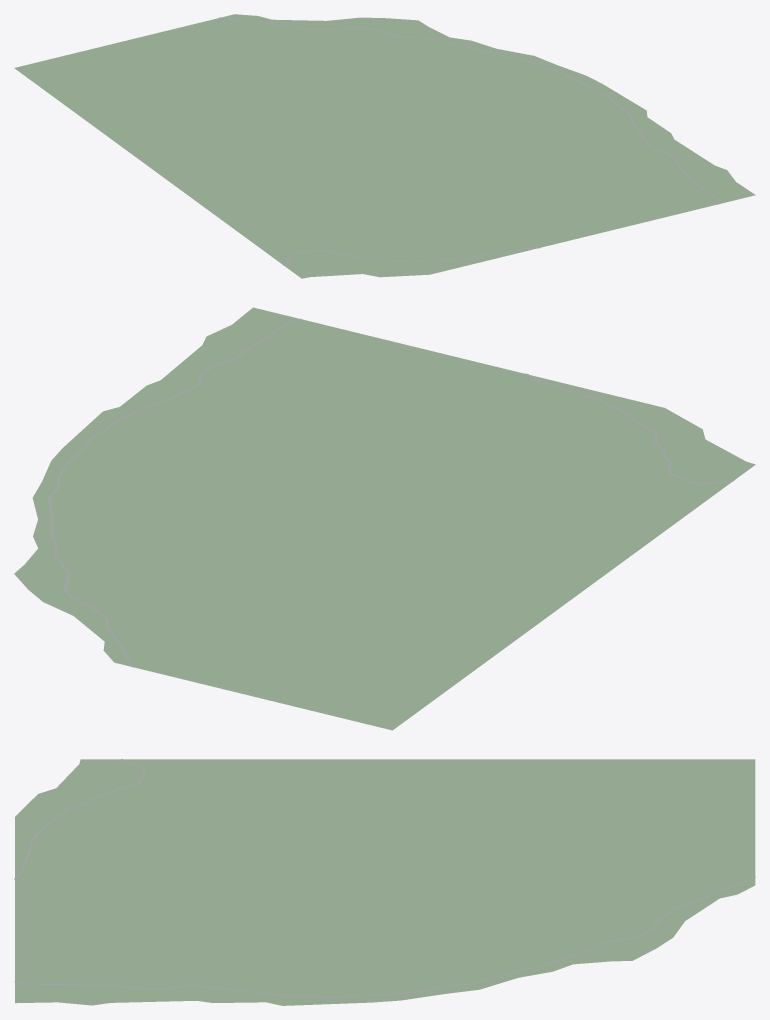
File: -22_-15-known-coarse.glb
The picture shows the model from 3 angles, top to bottom: view 1: azimuth 30°, elevation 25°; view 2: azimuth 150°, elevation 25°; view 3: azimuth 270°, elevation 25°; orthographic projection. The views are drawn at different scales.
Size of the model in its own units: 785 by 0.1 by 997.
